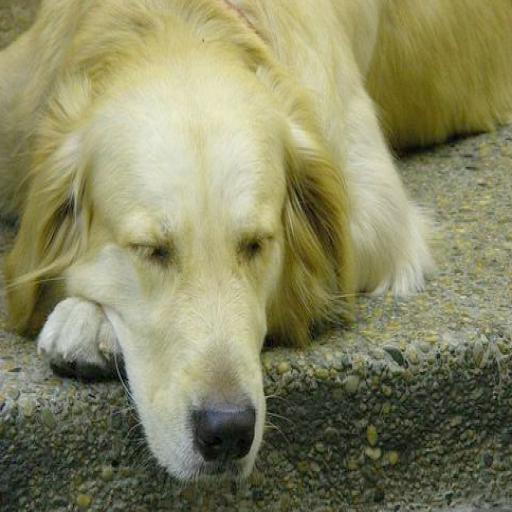dog_face: (25, 87, 340, 477)
